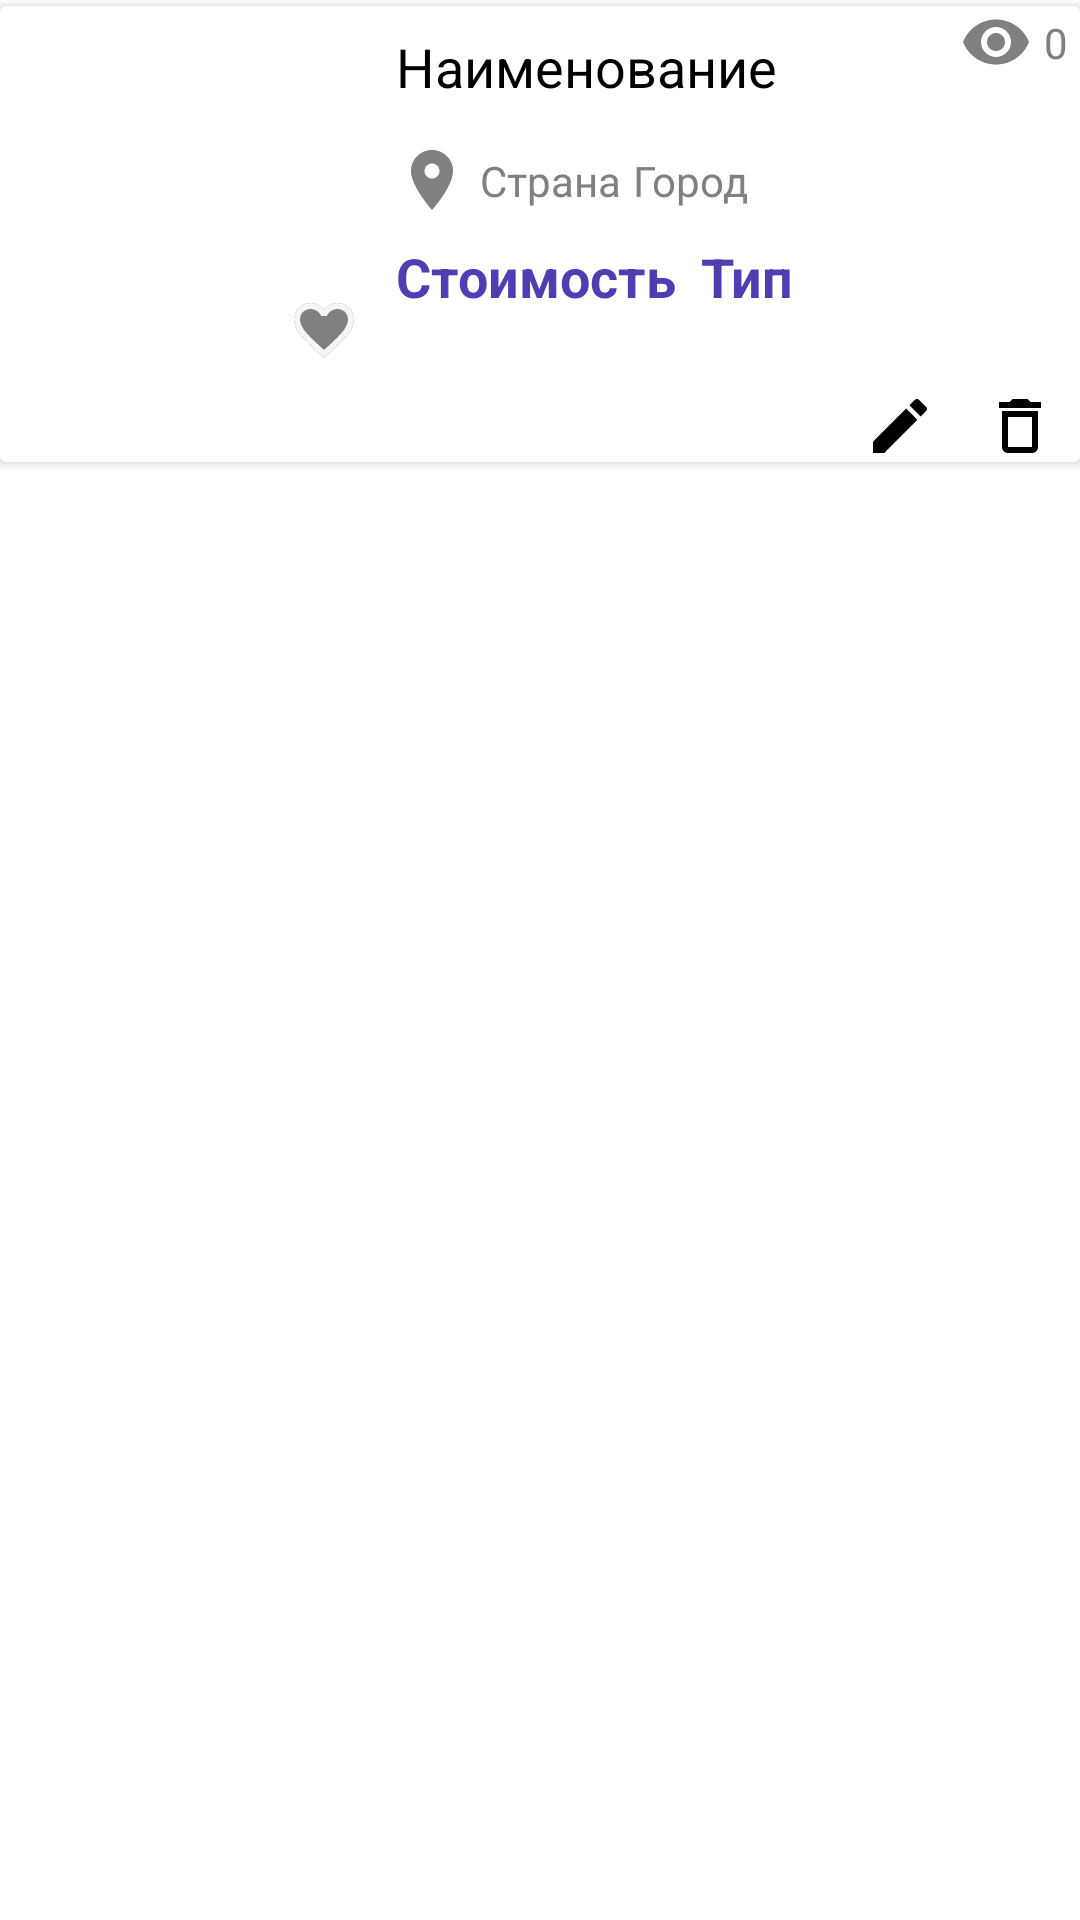

Where to tap for icons on this 1080 × 1920 app screen, as [x,y]:
delete: [1020,426]
edit: [900,426]
eye: [996,42]
favourite: [324,330]
place: [432,180]
